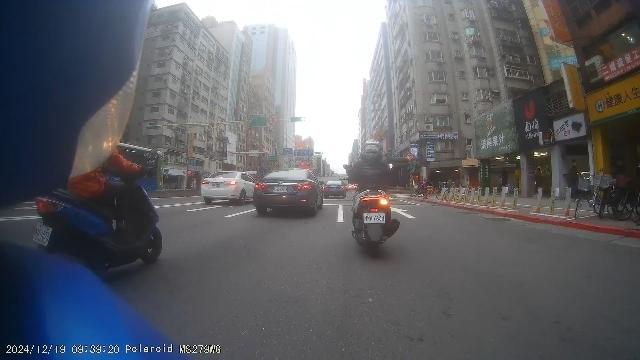plate: (364, 213, 385, 223), (273, 186, 287, 192)
